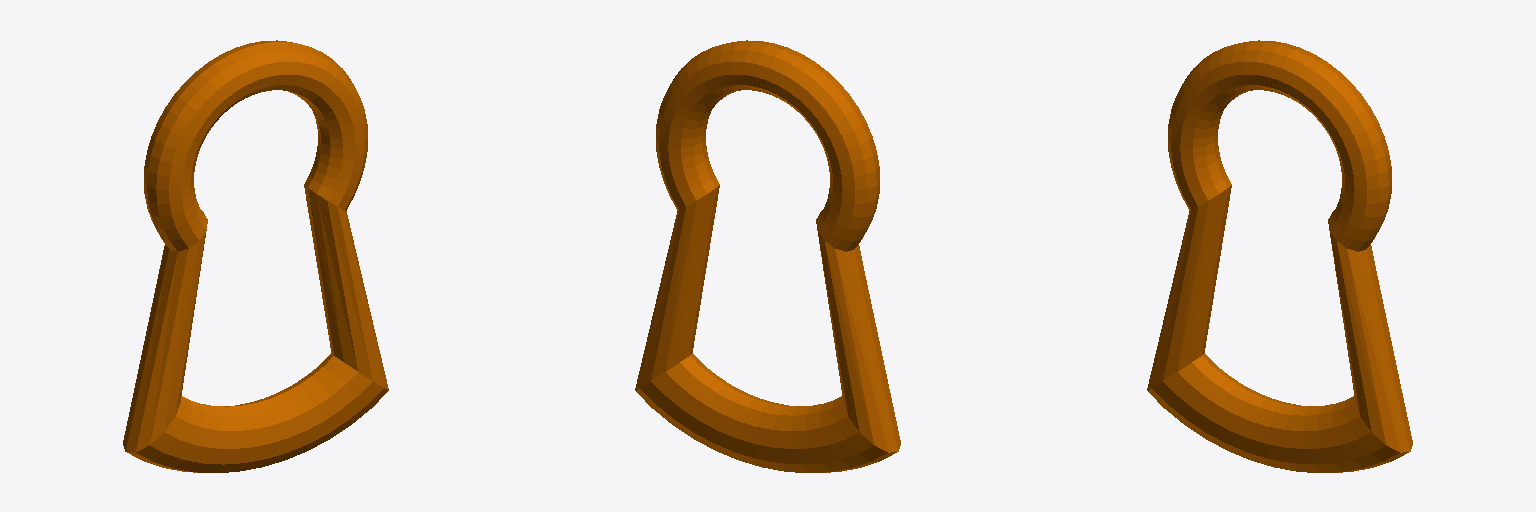
File: GoldKeyHole.obj
3 views of the same model, side by side, from view 1: azimuth 30°, elevation 25°; view 2: azimuth 150°, elevation 25°; view 3: azimuth 330°, elevation 25° (orthographic).
Parts seen in each view (by area): view 1: GoldKeyHole4_Torus.003; view 2: GoldKeyHole4_Torus.003; view 3: GoldKeyHole4_Torus.003.
Boxes of the visible parts, box(x1,y1,x2,y2) form: GoldKeyHole4_Torus.003: box(123, 40, 388, 472); GoldKeyHole4_Torus.003: box(635, 40, 900, 472); GoldKeyHole4_Torus.003: box(1147, 40, 1412, 472).
Size of the model in its own units: 0.0701 by 0.1084 by 0.0117.